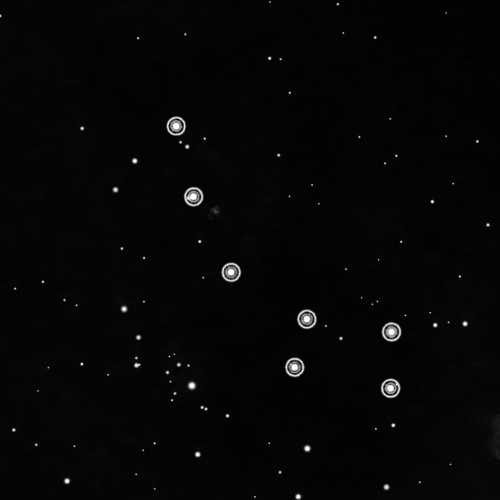ursa_minor: (159, 109, 411, 405)
